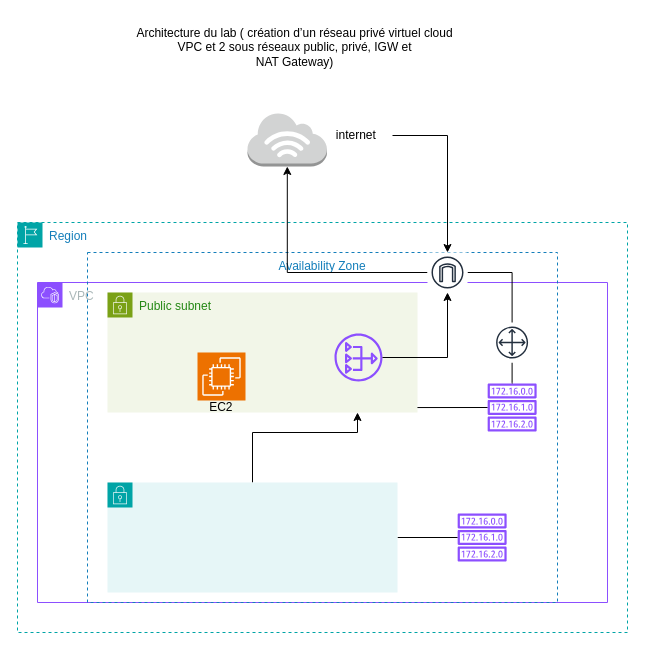
This 645x650 diagram has some shape labels left out. The shapes that lost their labels are listed below. From the top down, each one's centre as x and y in pixels, then its label:
At (x=447, y=272): "Internet gateway".
At (x=252, y=537): "Private subnet".
